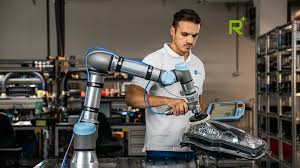person: (125, 8, 207, 159)
robot: (69, 48, 211, 166)
